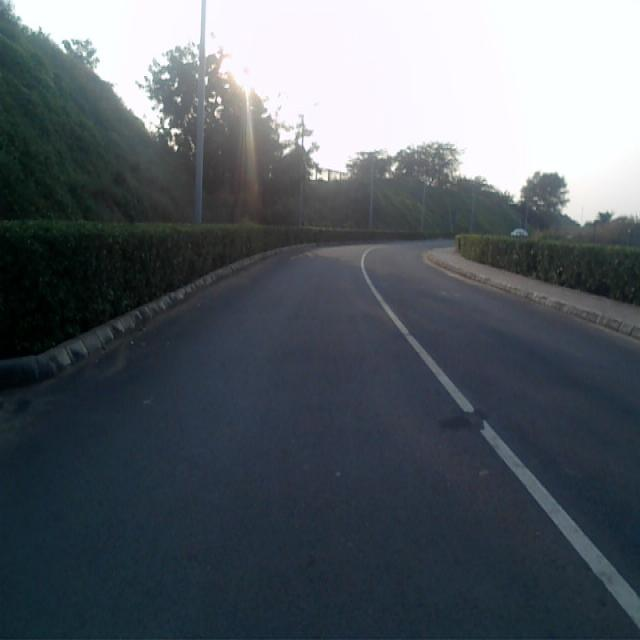lane: (0, 247, 640, 640)
